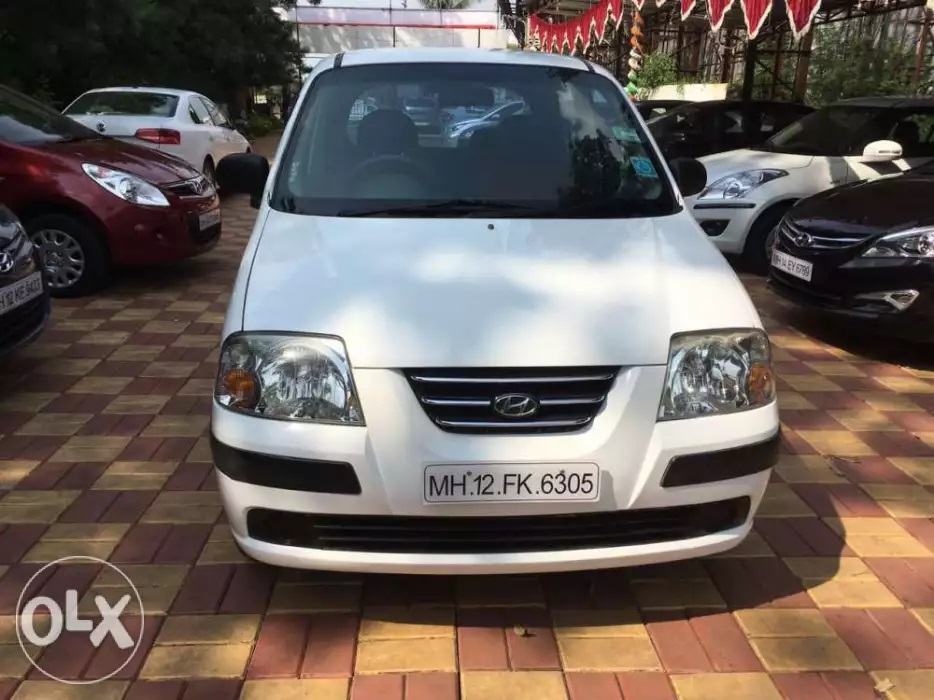licenseplate: (422, 459, 607, 505)
